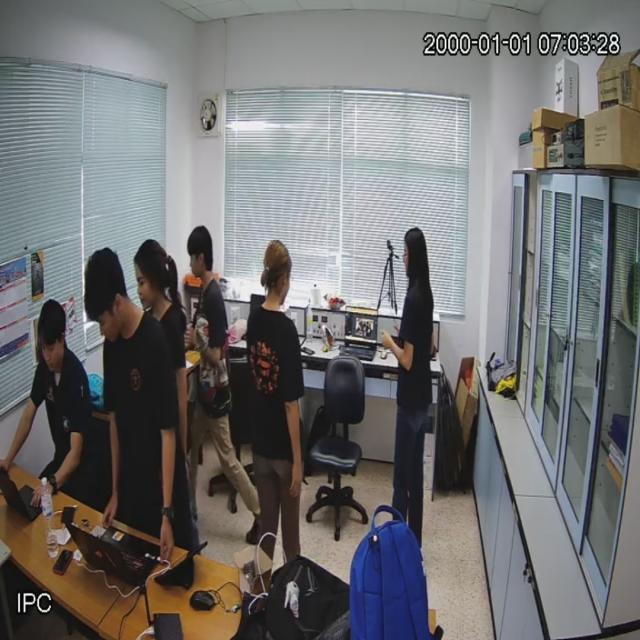normal: (85, 251, 184, 550), (186, 226, 252, 540), (248, 238, 304, 558), (21, 300, 95, 506), (386, 230, 433, 552)
